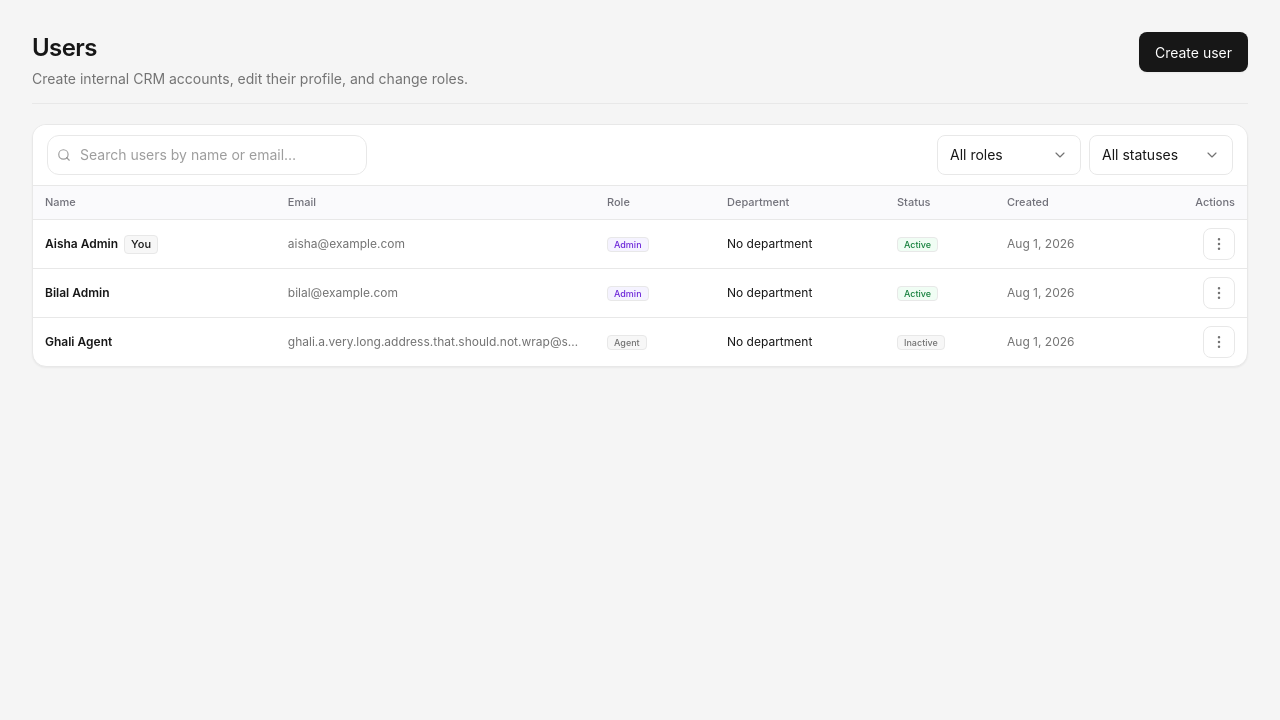
Test: users management — table › performs no mutation on Cancel
Click the button named "Actions" in the row of "Bilal Admin": coordinates (1219, 293) [1203, 277, 1235, 309]
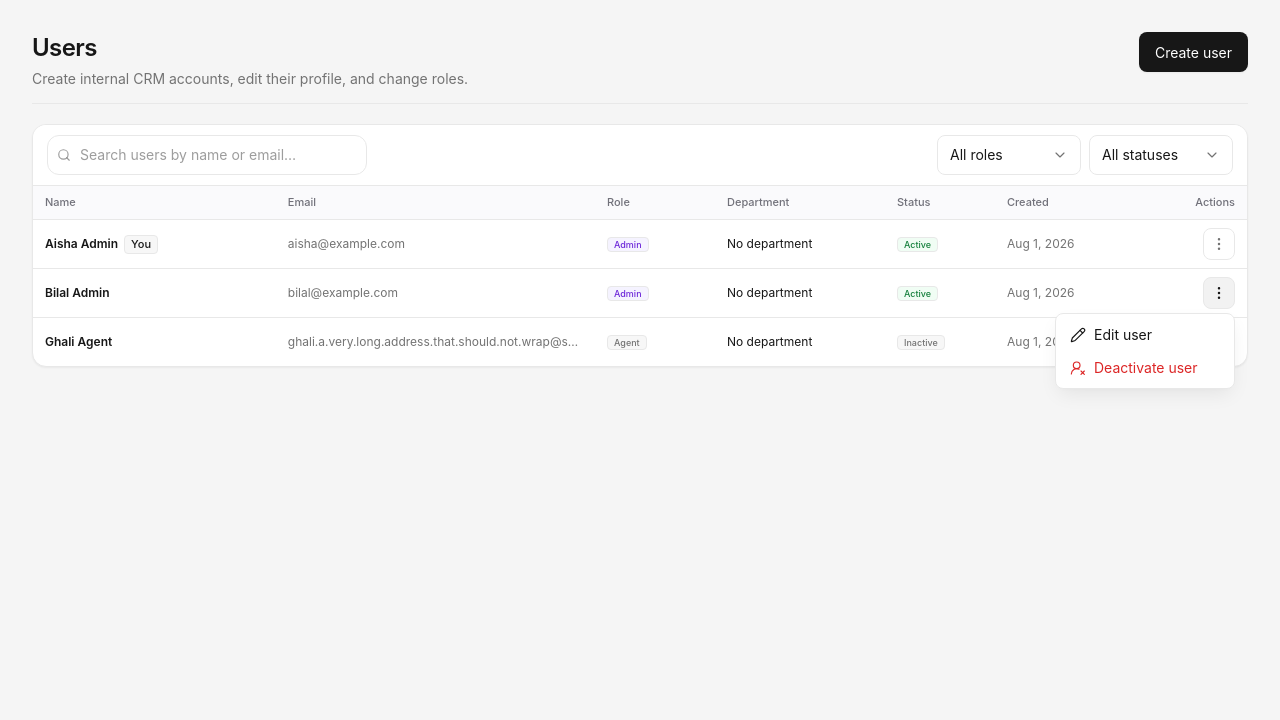
Click the menu item "Deactivate user": coordinates (1145, 368) [1060, 351, 1230, 384]
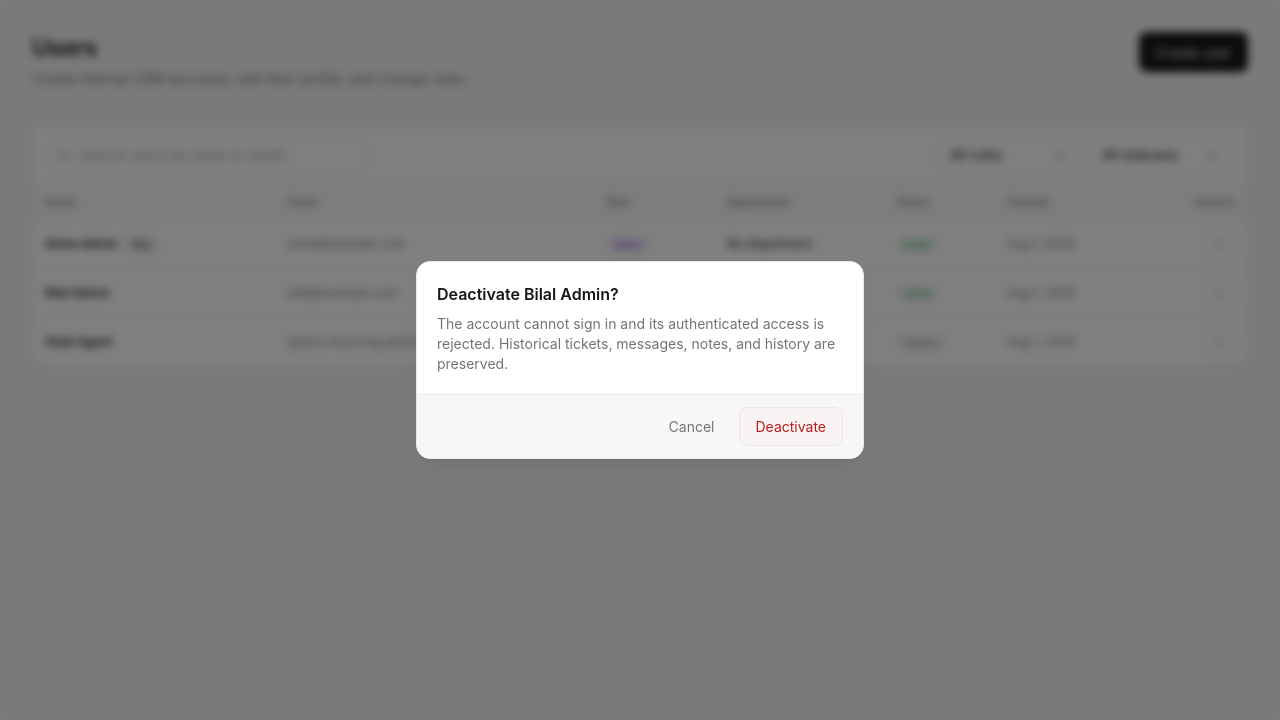
Click the button "Cancel": coordinates (692, 426) [653, 407, 730, 446]
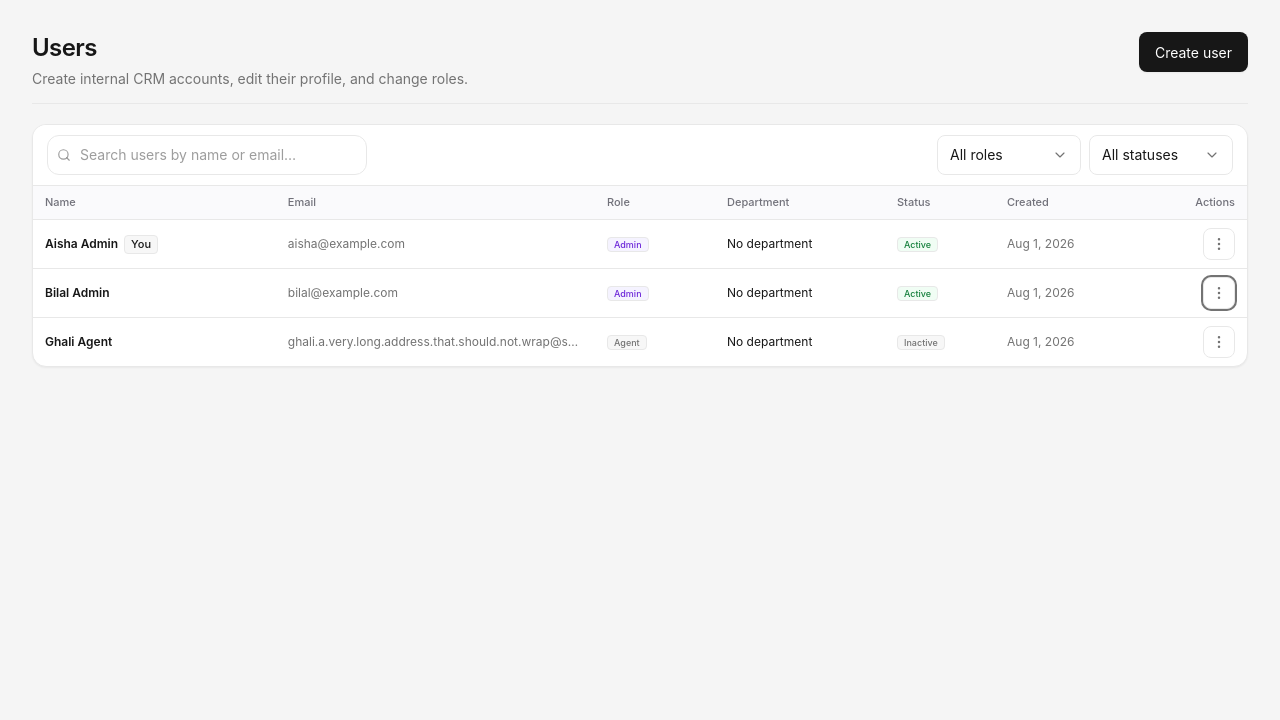
Expected: the dialog is gone
